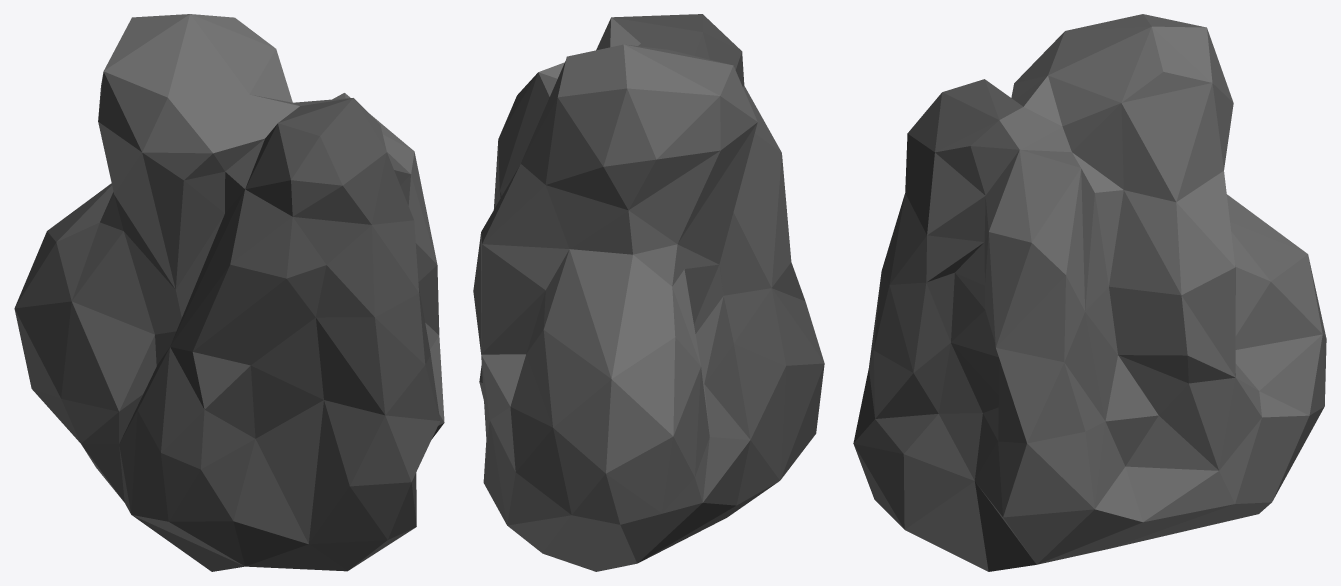
File: stoun_16.fbx
3 renders of one model, left to right at view 1: azimuth 30°, elevation 25°; view 2: azimuth 150°, elevation 25°; view 3: azimuth 270°, elevation 25°, orthographic.
Visible parts, largest first — view 1: Object.022; view 2: Object.022; view 3: Object.022.
Part boxes in pixels (box(x1,y1,x2,y2)): Object.022: box(14, 14, 444, 571); Object.022: box(473, 14, 824, 571); Object.022: box(853, 14, 1326, 571).
Size of the model in its own units: 197 by 316 by 266.
